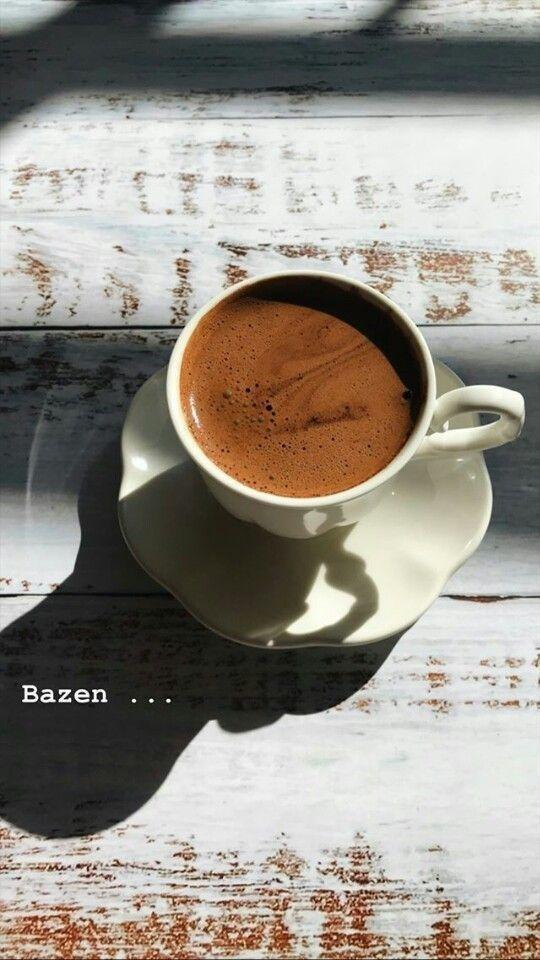cup-handle: (163, 268, 529, 545)
